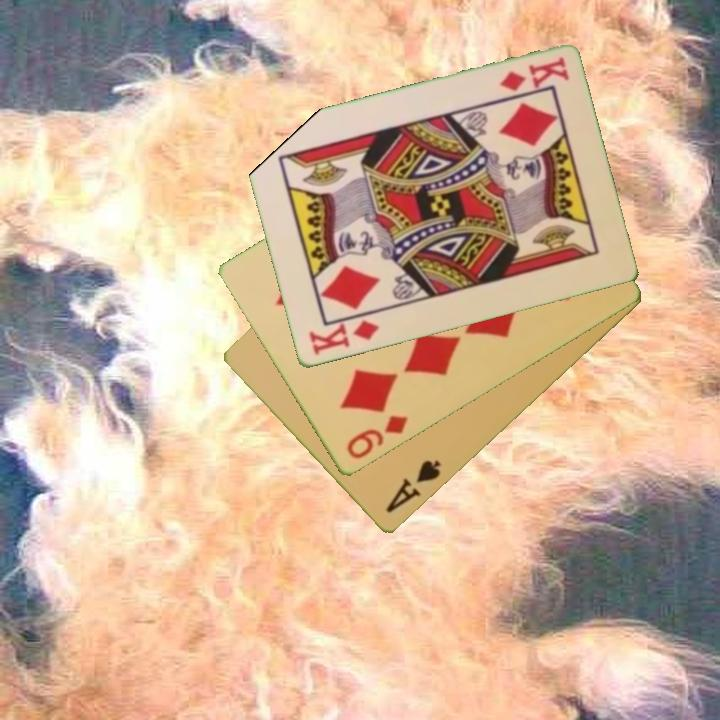9d: (343, 412, 412, 463)
As: (382, 456, 444, 517)
Kd: (305, 317, 382, 359), (496, 53, 572, 95)
